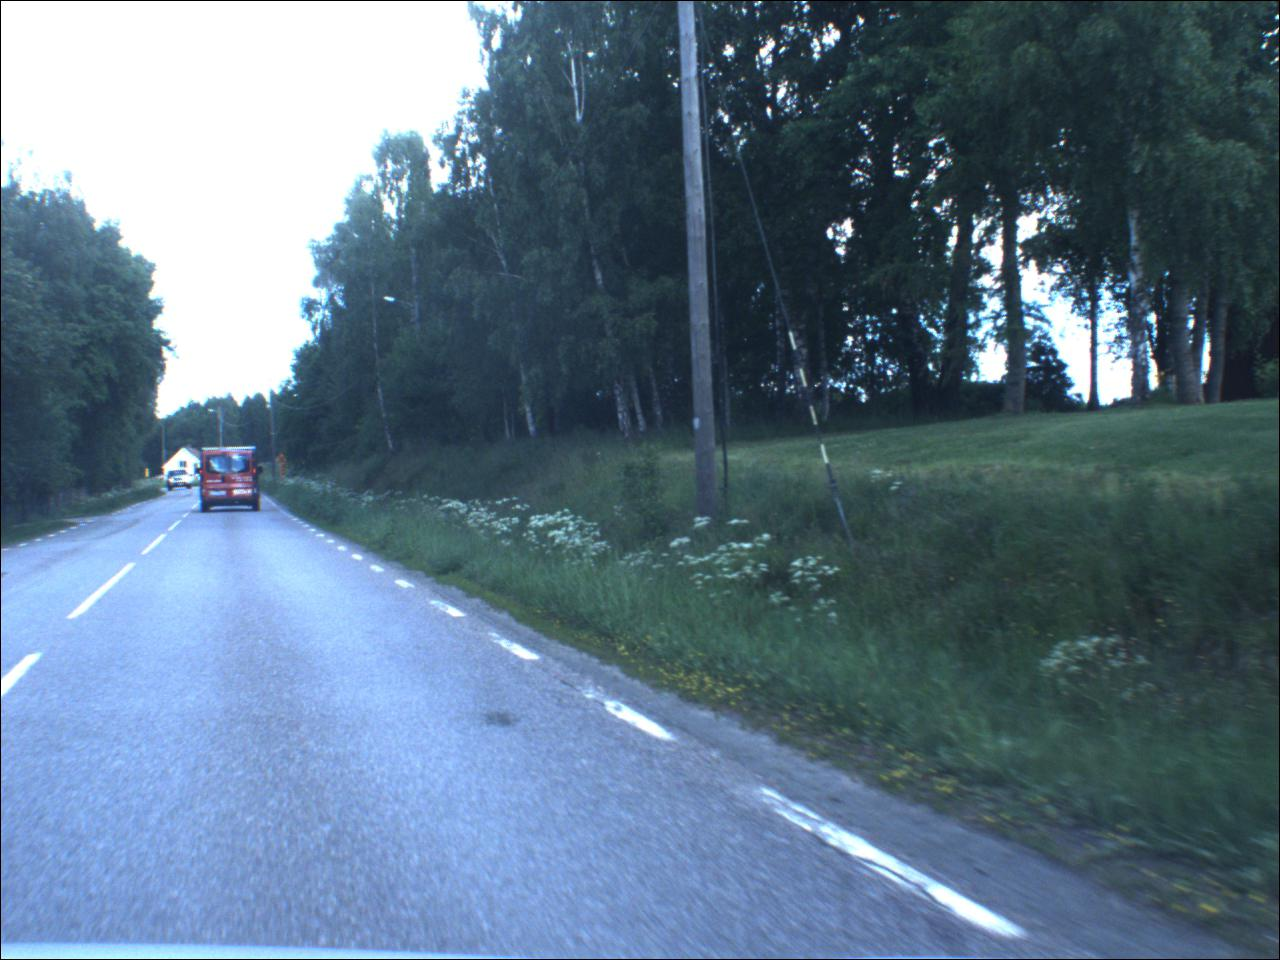WARNING_RAIL_CROSSING: (280, 453, 291, 465)
